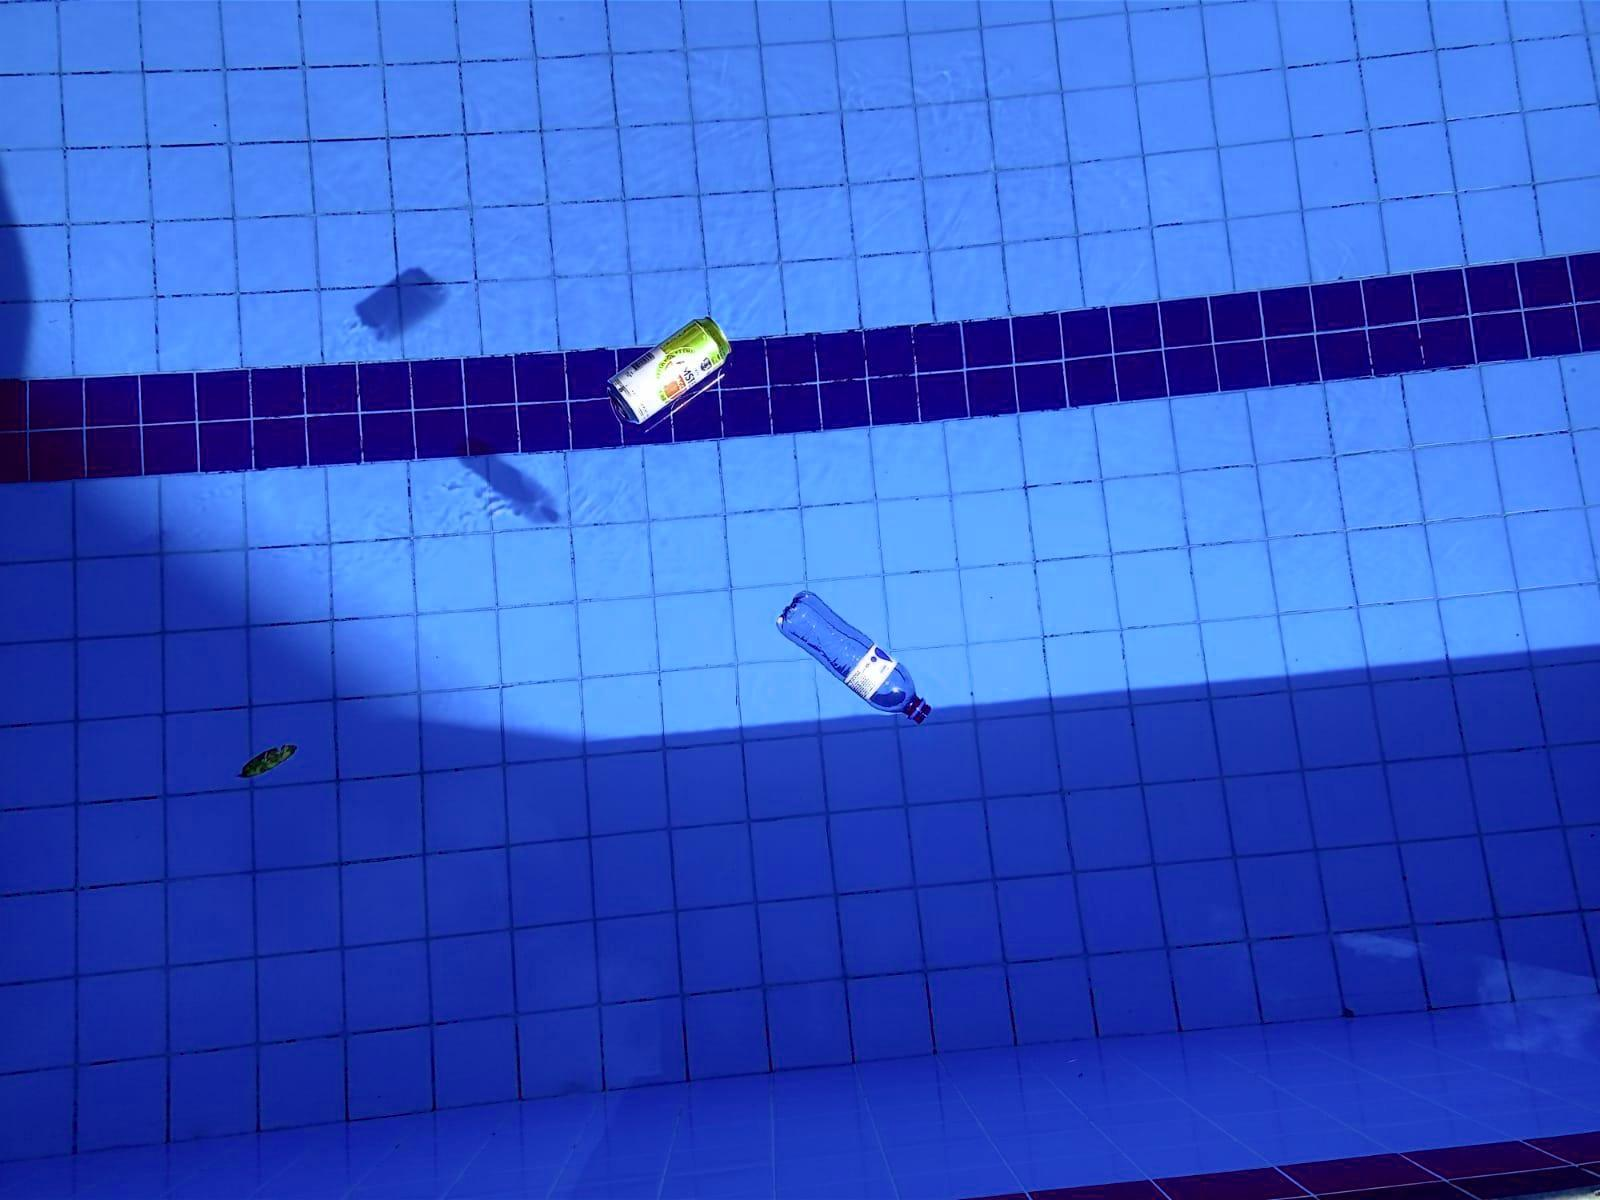Metal: (571, 297, 767, 440)
Plastic: (745, 556, 974, 766)
